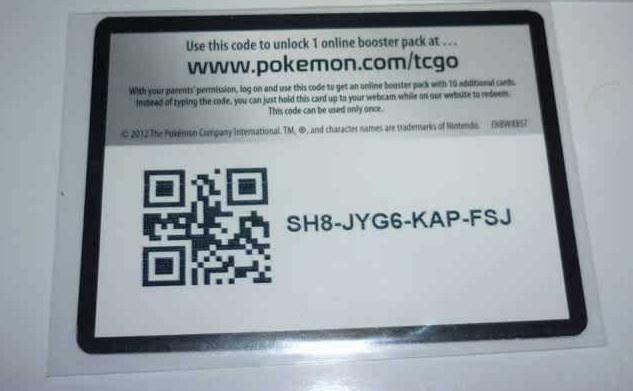qr_code: (142, 168, 272, 287)
